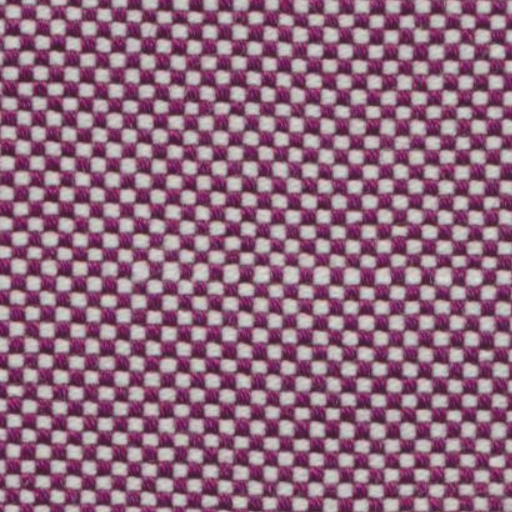TuoSha: (28, 222, 500, 314)
